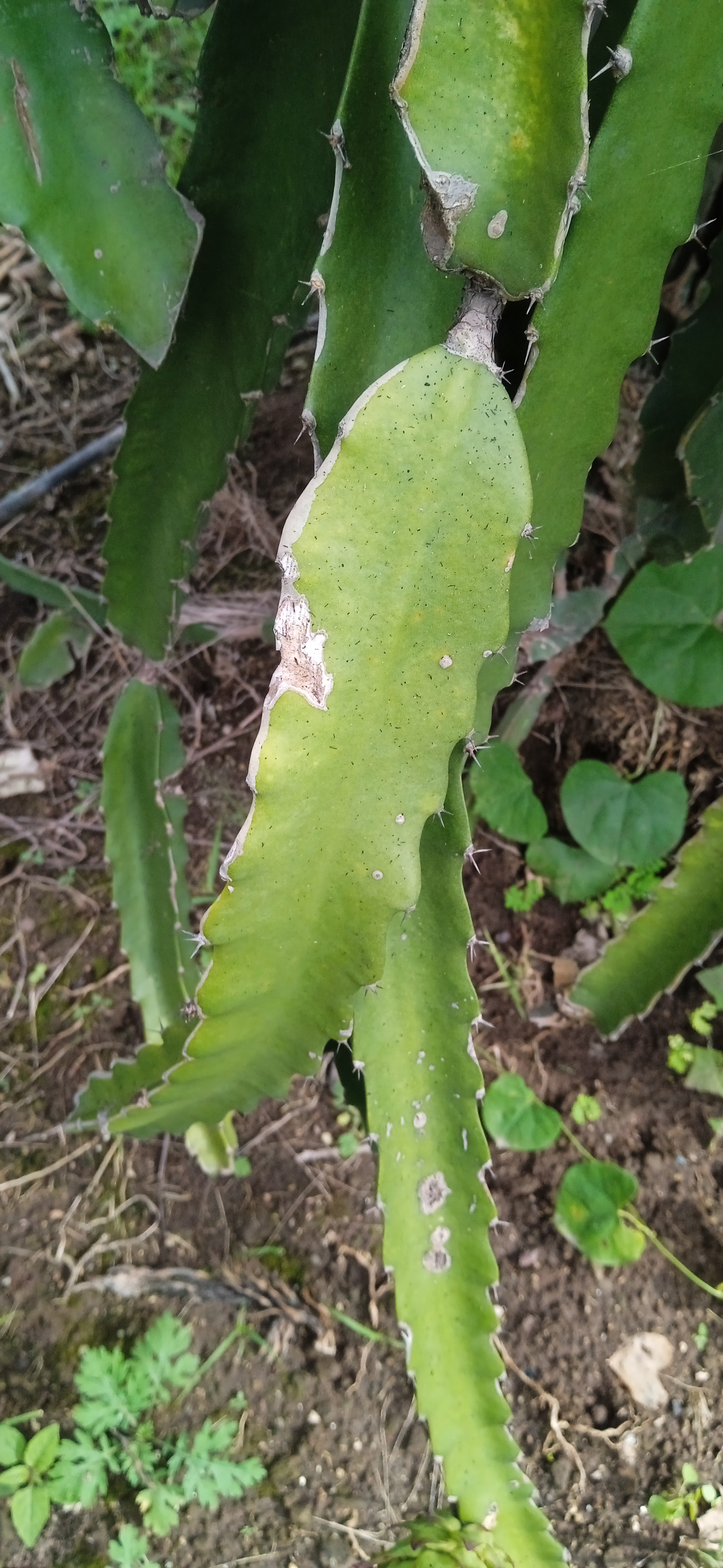stemcanker: (93, 281, 532, 1144), (345, 919, 561, 1568), (392, 2, 595, 305)
